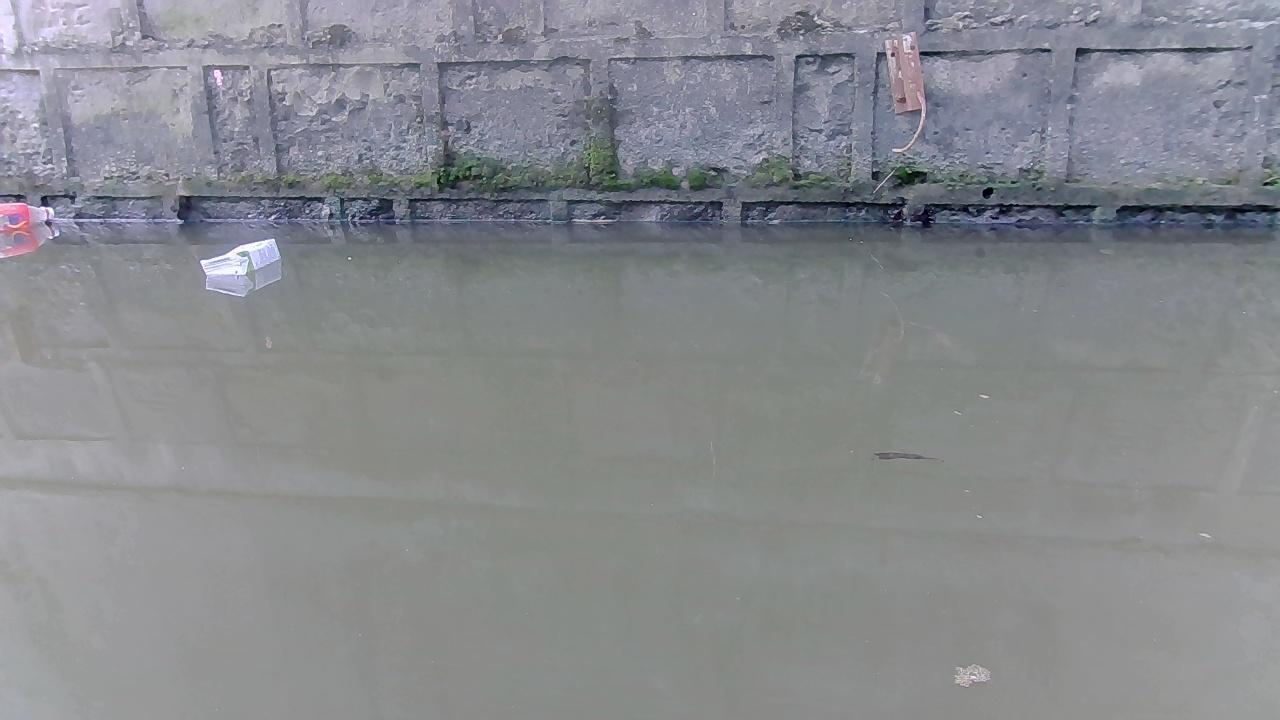bottle: (194, 236, 288, 287), (0, 201, 59, 225)
